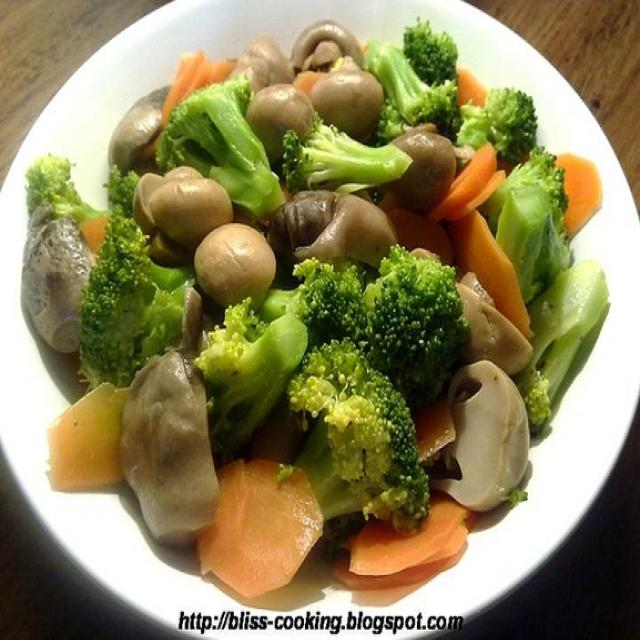蔬菜料理: (20, 18, 609, 594)
